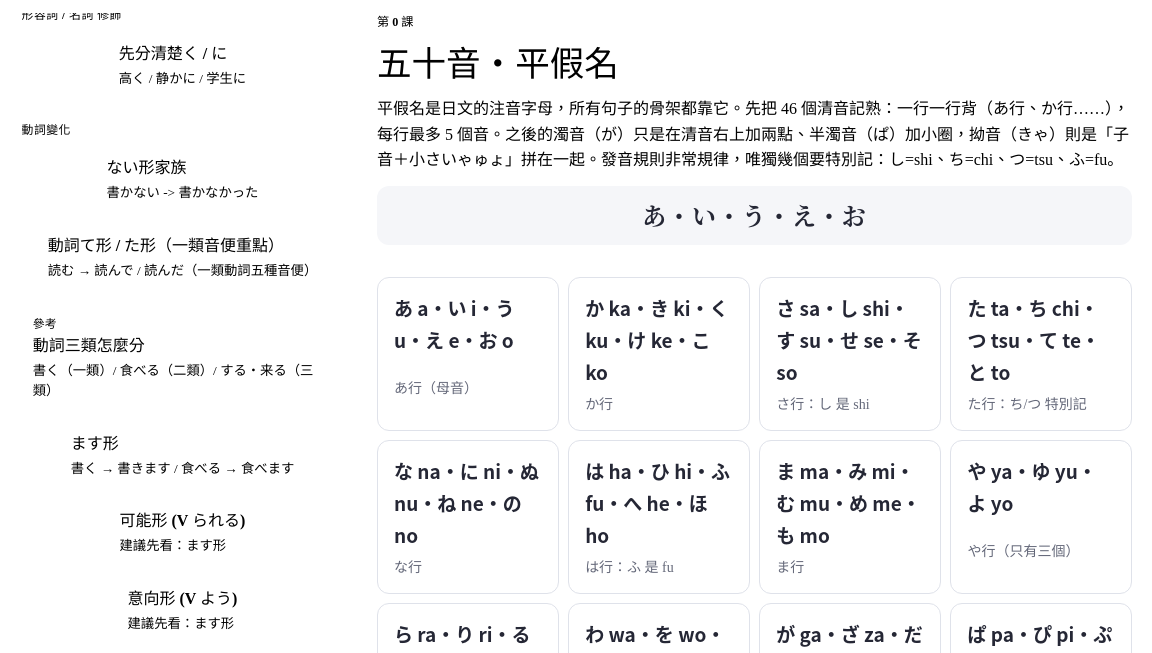
Test: LearningPanel furigana (#618) › adds ruby to the focus formula, examples, and pitfalls when enabled
(page scrolled)
What coordinates should you click on to do the following:
click the tab "參考 動詞三類怎麼分 書く（一類）/ 食べる（二類）/ する・来る（三類）"
I would click on:
 (89, 346)
Its box is [20, 301, 345, 413].
(page scrolled)
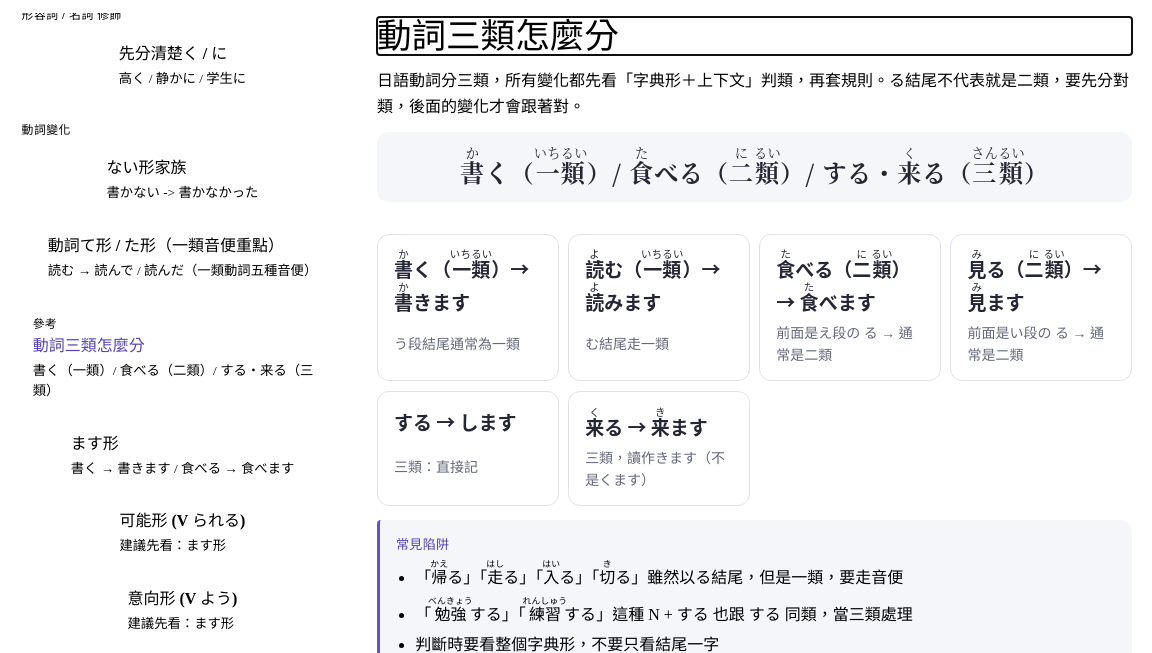
Now the text "か" in the row of "さん" is shown, box [460, 143, 485, 162]
Now the 2nd text "か" is shown, box [394, 246, 413, 261]
Now the text "かえ" is shown, box [430, 559, 448, 569]
